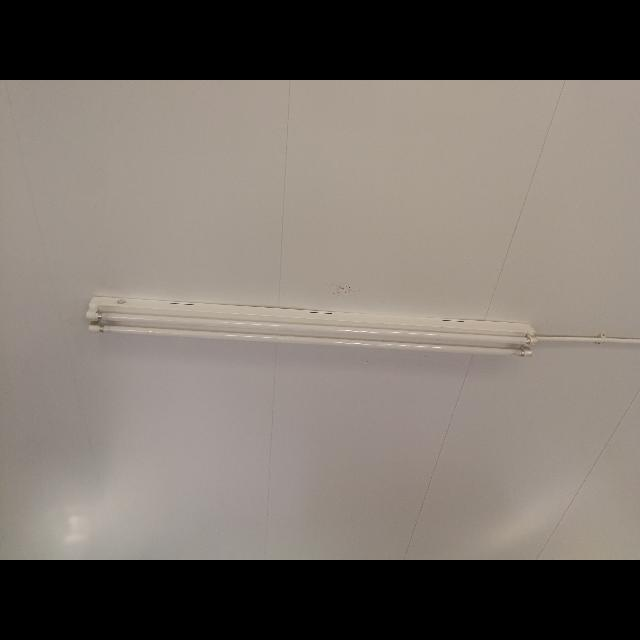Straight-Tube-Fluorescent-Lamp: (68, 286, 540, 372)
